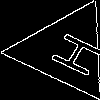H: (40, 26, 100, 80)
